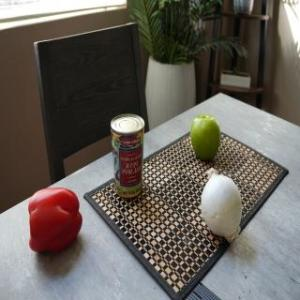bell_pepper: (18, 184, 84, 258)
onion: (200, 168, 244, 242)
